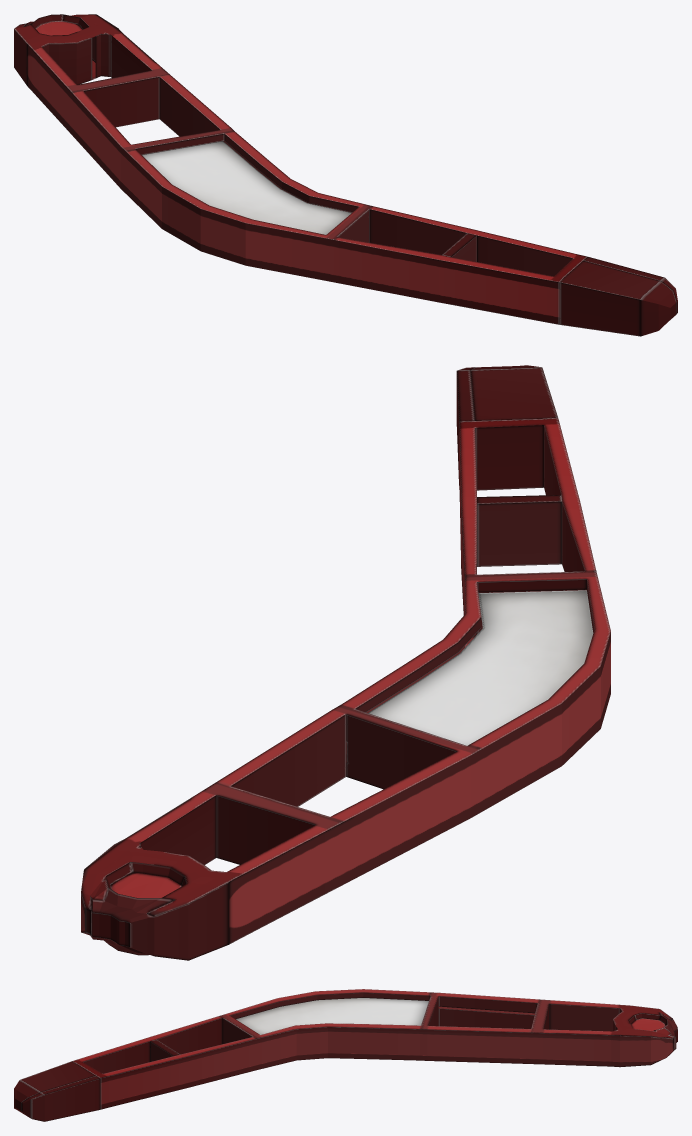
File: AnimBoomrang.fbx
3 renders of one model, top to bottom at view 1: azimuth 30°, elevation 25°; view 2: azimuth 150°, elevation 25°; view 3: azimuth 270°, elevation 25°, orthographic. The views are drawn at different scales.
Visible parts, largest first — view 1: pCube1; view 2: pCube1; view 3: pCube1.
Boxes of the visible parts, x1,y1,x2,y2 form: pCube1: (14,14,677,336); pCube1: (81,365,610,960); pCube1: (14,989,677,1121).
Size of the model in its own units: 5.26 by 0.7373 by 14.15.
Materials: 1 (1 with a texture image).
